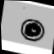correct: (18, 16, 48, 45)
